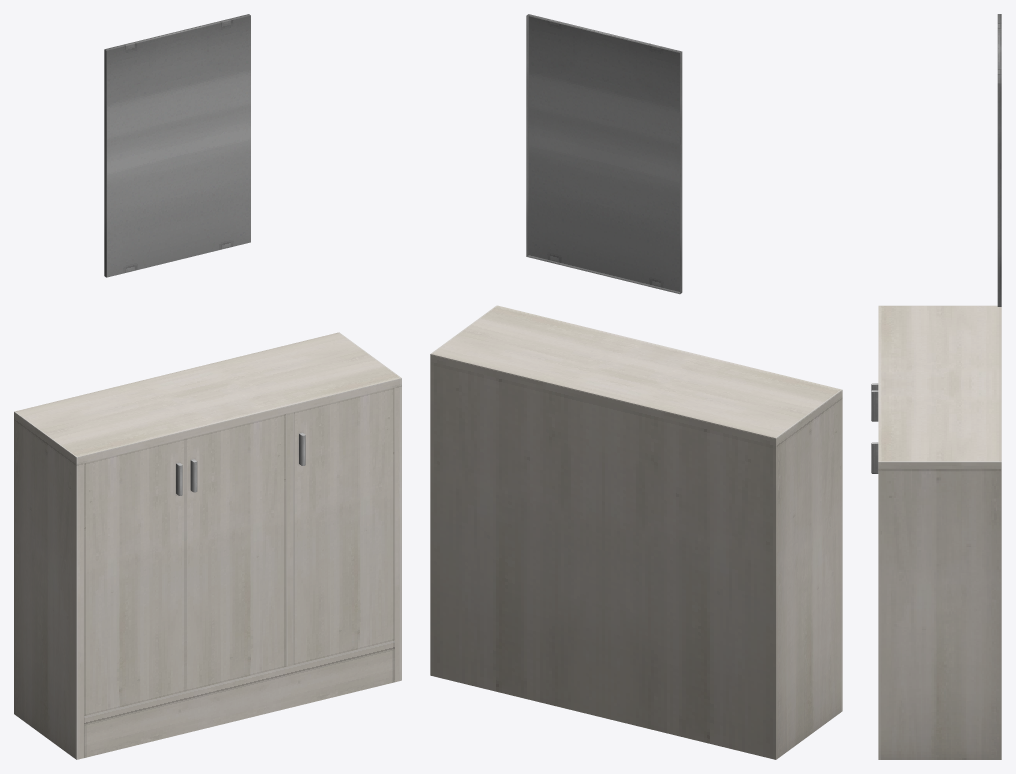
File: ShoeCabinet.glb
3 renders of one model, left to right at view 1: azimuth 30°, elevation 25°; view 2: azimuth 150°, elevation 25°; view 3: azimuth 270°, elevation 25°, orthographic. The views are drawn at different scales.
Parts seen in each view (by area): view 1: shoe cabinet, mirror, shoe cabinet door.001, shoe cabinet door.002, shoe cabinet door.003; view 2: shoe cabinet, mirror; view 3: shoe cabinet, mirror, shoe cabinet door.002, shoe cabinet door.001.
Boxes of the visible parts, <box> form: shoe cabinet: <box>14,332,401,759</box>; mirror: <box>104,14,250,277</box>; shoe cabinet door.001: <box>185,414,286,691</box>; shoe cabinet door.002: <box>293,387,394,665</box>; shoe cabinet door.003: <box>84,438,184,716</box>; shoe cabinet: <box>430,305,842,759</box>; mirror: <box>526,14,682,294</box>; shoe cabinet: <box>878,305,1001,759</box>; mirror: <box>997,14,1001,306</box>; shoe cabinet door.002: <box>871,442,878,473</box>; shoe cabinet door.001: <box>871,390,878,421</box>.
Size of the model in its own units: 0.9 by 1.7 by 0.317.
2 materials, 2 textured.
